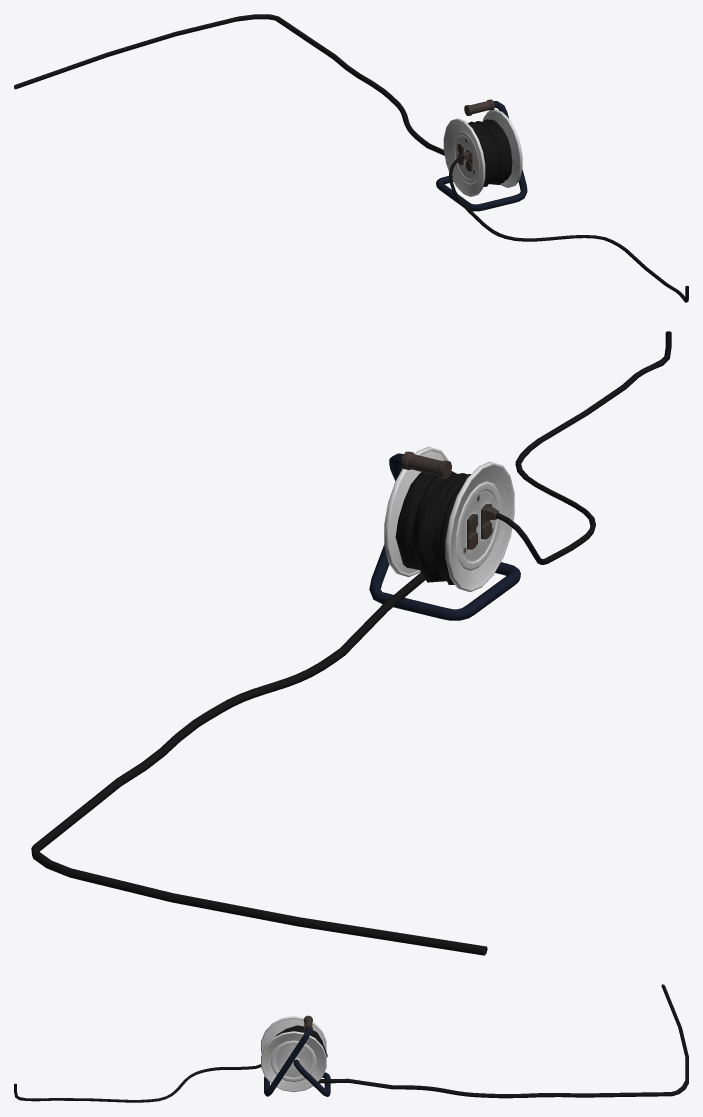
Rendered from Wire.glb.
3 renders of one model, top to bottom at view 1: azimuth 30°, elevation 25°; view 2: azimuth 150°, elevation 25°; view 3: azimuth 270°, elevation 25°, orthographic. The views are drawn at different scales.
Parts seen in each view (by area): view 1: Wire; view 2: Wire; view 3: Wire.
Boxes of the visible parts, left/top/right/bottom form: Wire: left=14, top=14, right=688, bottom=302; Wire: left=31, top=331, right=671, bottom=955; Wire: left=14, top=984, right=688, bottom=1102.
Bounding box in the file's own units: 2.62 × 0.7271 × 6.38.
1 material, 1 textured.
